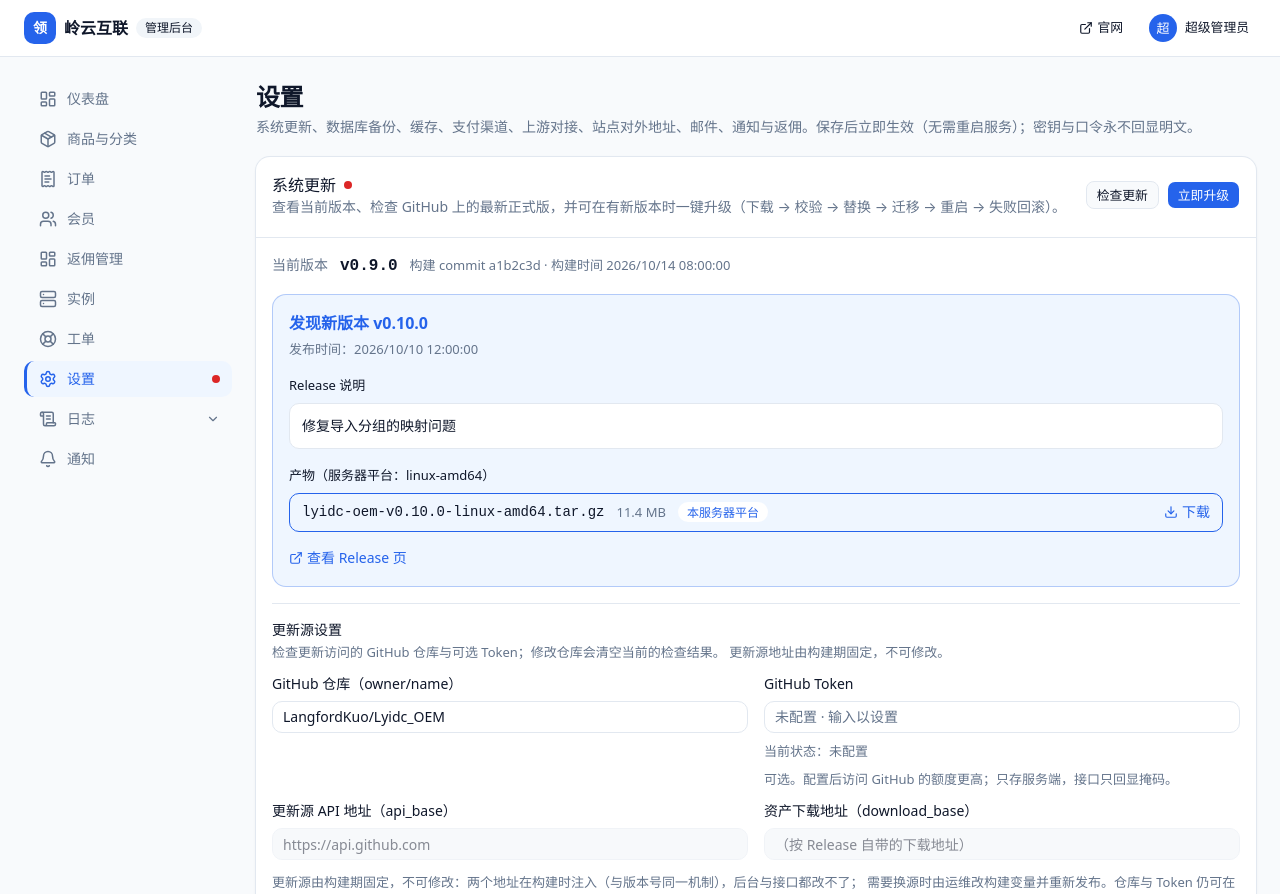
Test: 管理后台 · 一键升级（R13-B，契约 20） › 前置检查被拒（40002）：toast 给出可读原因，不进入任务面板
Expected: the heading "设置" is shown, x1=256 y1=80 x2=303 y2=113
Expected: the text "发现新版本 v0.10.0" is shown, x1=289 y1=312 x2=428 y2=334
Click the button with test id "upgrade-apply-button" at (1203, 195), box x1=1167 y1=181 x2=1240 y2=209
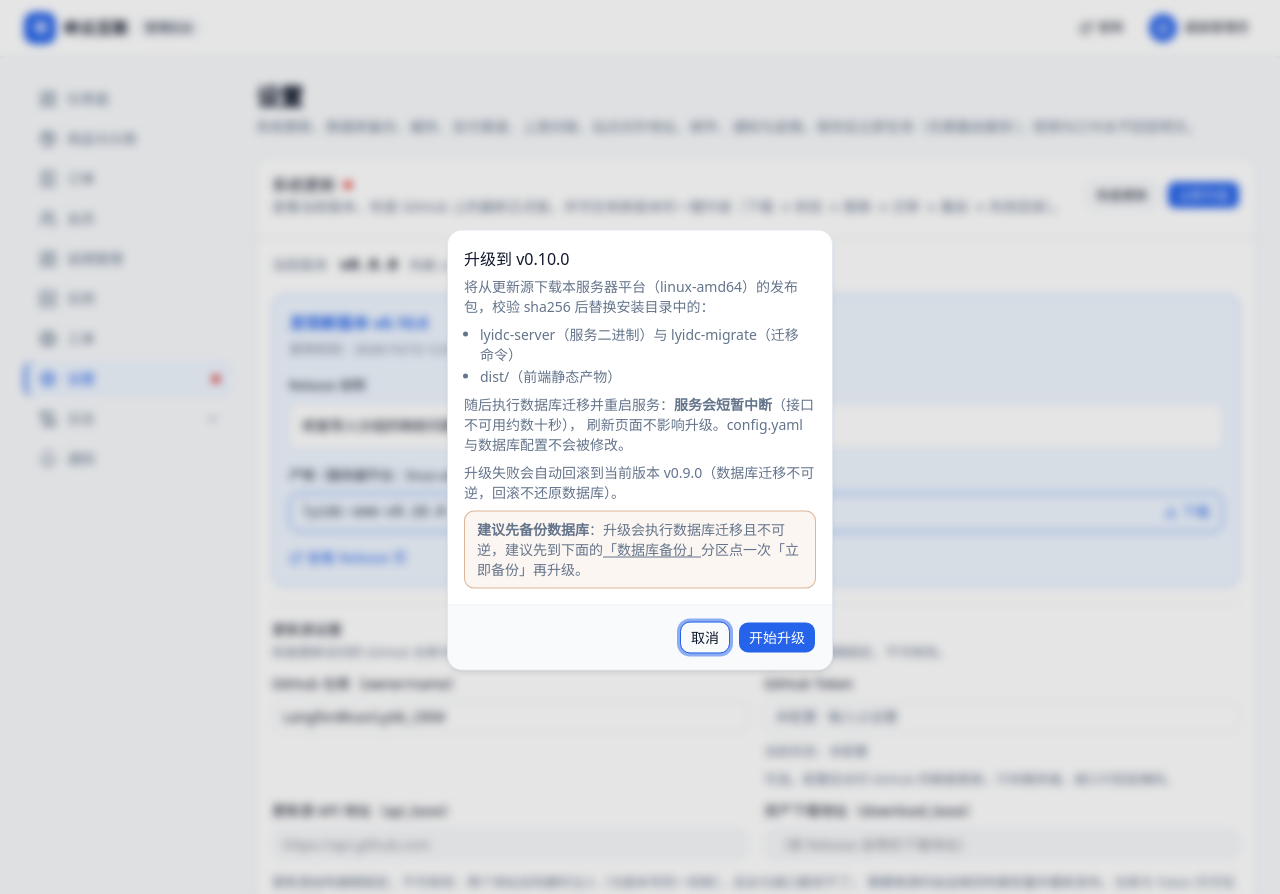
Click the button "开始升级" at (777, 638), box x1=738 y1=622 x2=816 y2=654
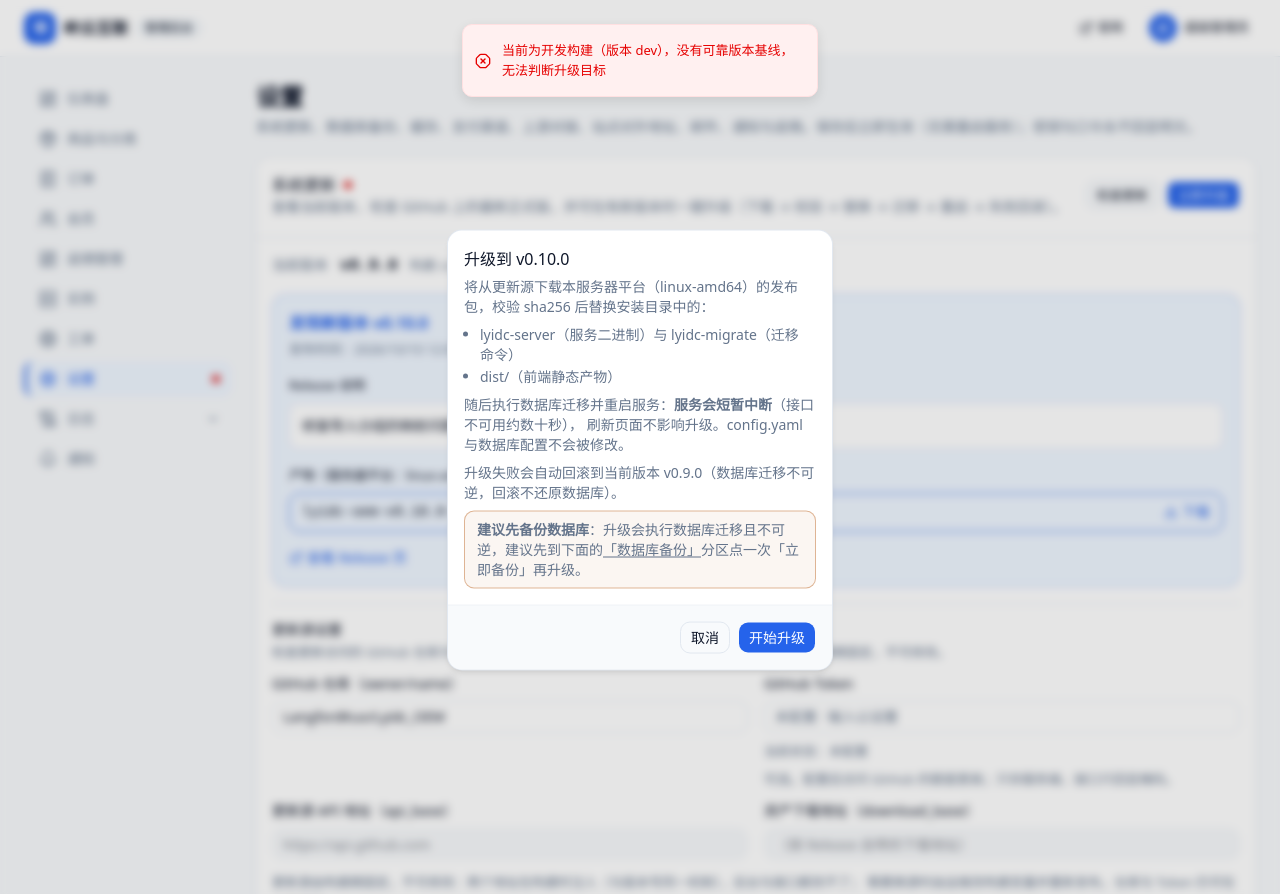
Result: the text "当前为开发构建（版本 dev），没有可靠版本基线，无法判断升级目标" is shown at x1=502 y1=41 x2=801 y2=80
